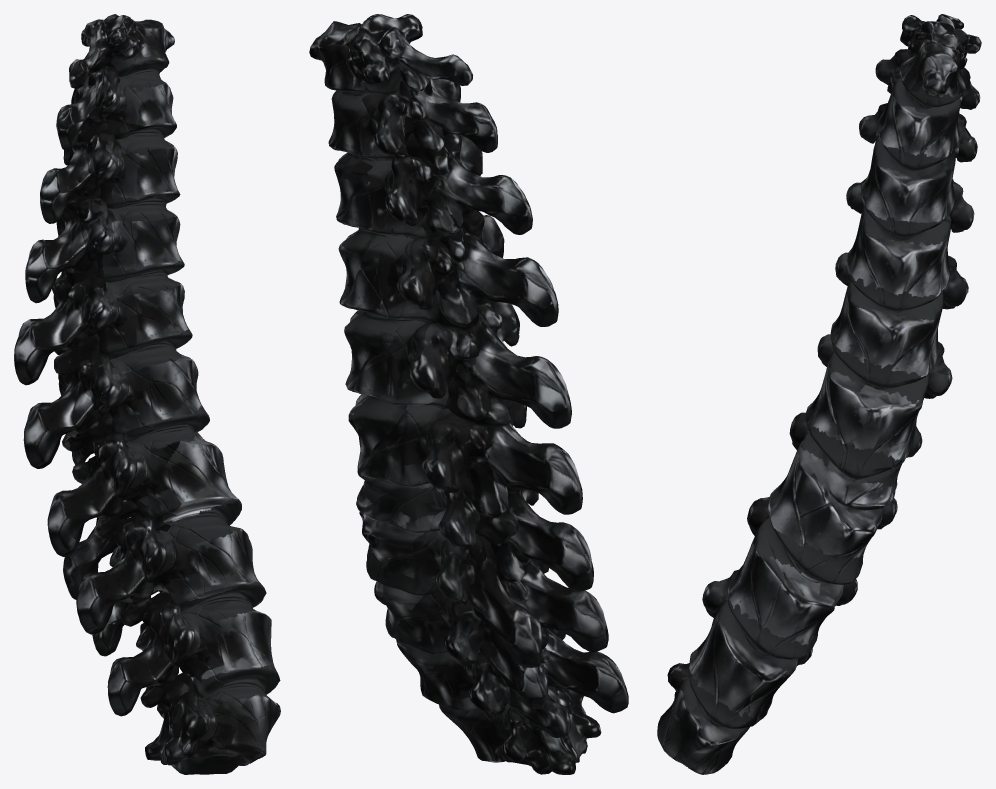
The model's file is spine-phone.glb.
3 views of the same model, side by side, from view 1: azimuth 30°, elevation 25°; view 2: azimuth 150°, elevation 25°; view 3: azimuth 270°, elevation 25° (orthographic). The views are drawn at different scales.
Parts seen in each view (by area): view 1: tripo_node_fd81abb5; view 2: tripo_node_fd81abb5; view 3: tripo_node_fd81abb5.
Part boxes in pixels (box(x1,y1,x2,y2)): tripo_node_fd81abb5: box(14, 14, 280, 774); tripo_node_fd81abb5: box(309, 14, 628, 774); tripo_node_fd81abb5: box(657, 14, 981, 774).
Bounding box in the file's own units: 0.3294 × 1.09 × 0.4308.
1 material, 1 textured.
